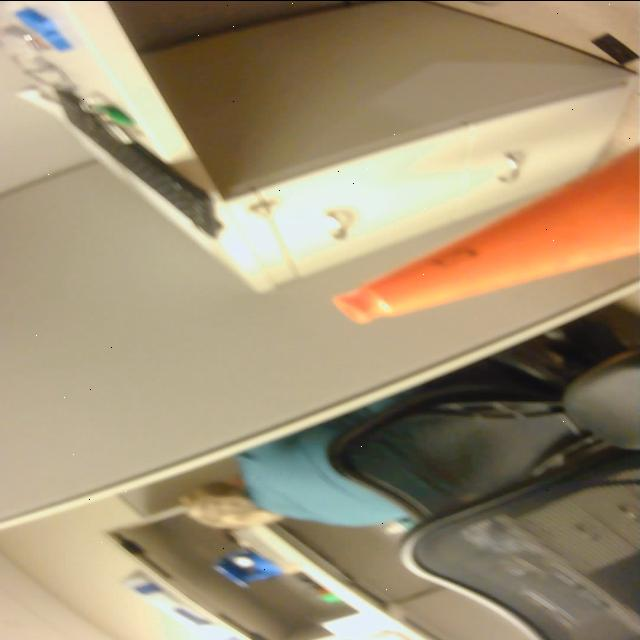traffic cone: (325, 142, 640, 330)
